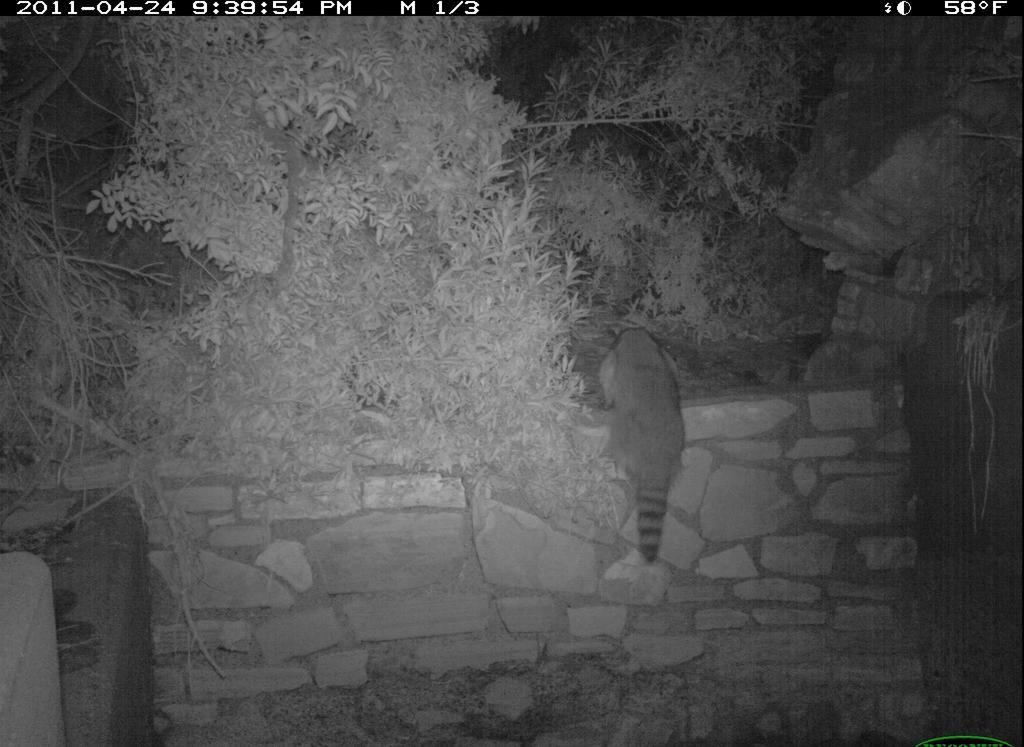raccoon: (568, 303, 705, 571)
